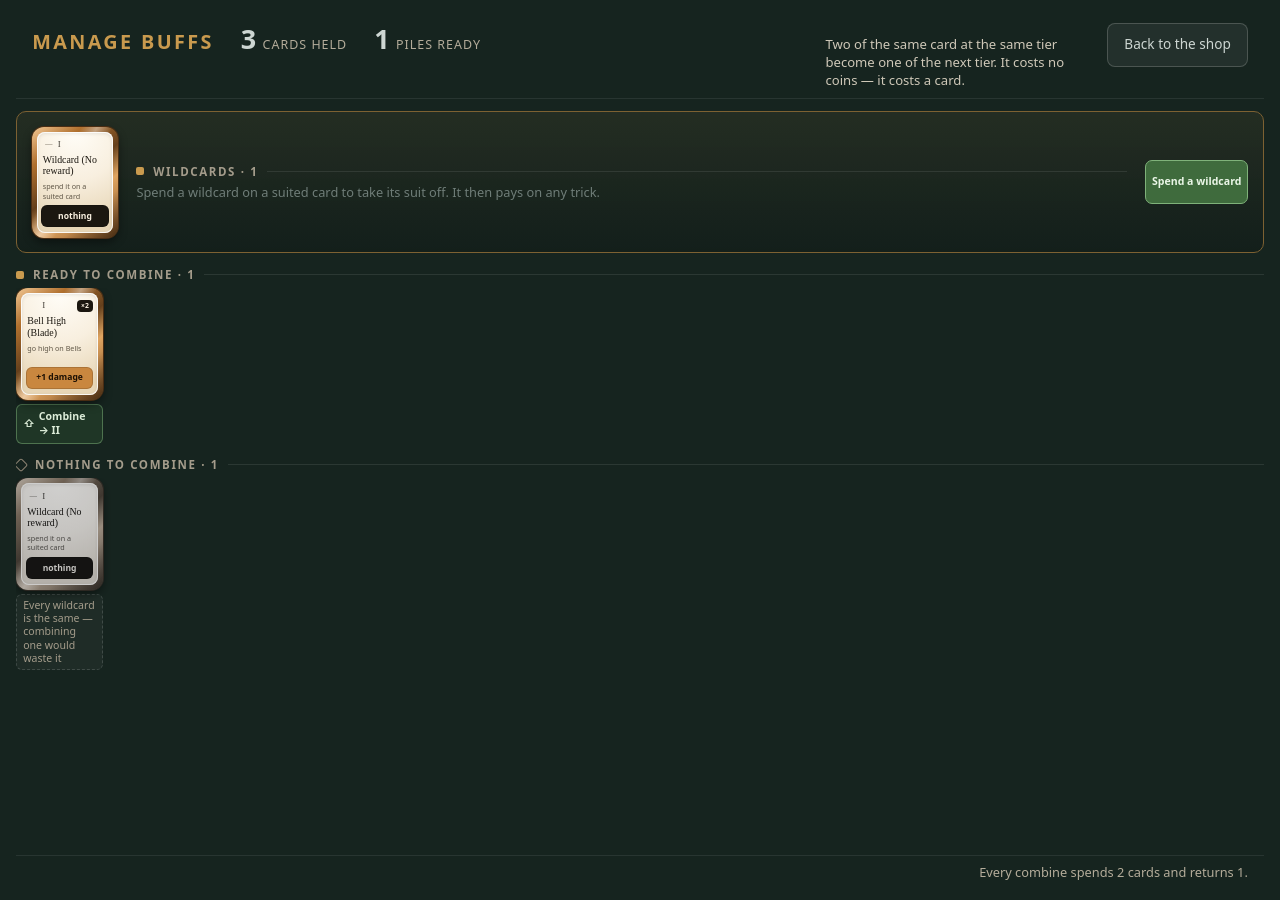
the wildcard band (DLR-162) › cancels the armed target with Escape, then leaves the mode with a second Escape
Click the button "Spend a wildcard".
click(1197, 182)  # box [1145,160,1248,204]
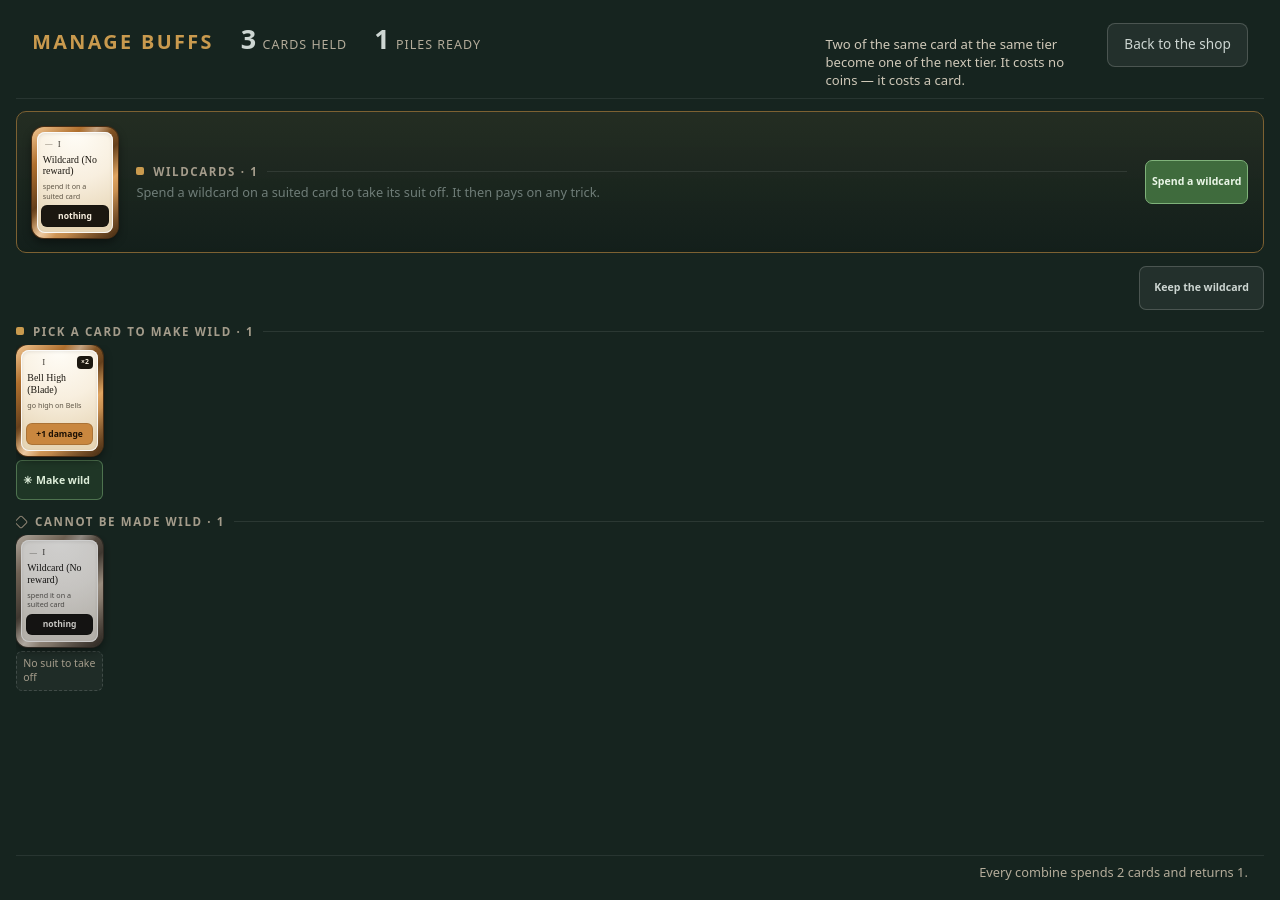
Click the button "Bell High (Blade)".
click(56, 422)  # box [16,345,96,500]
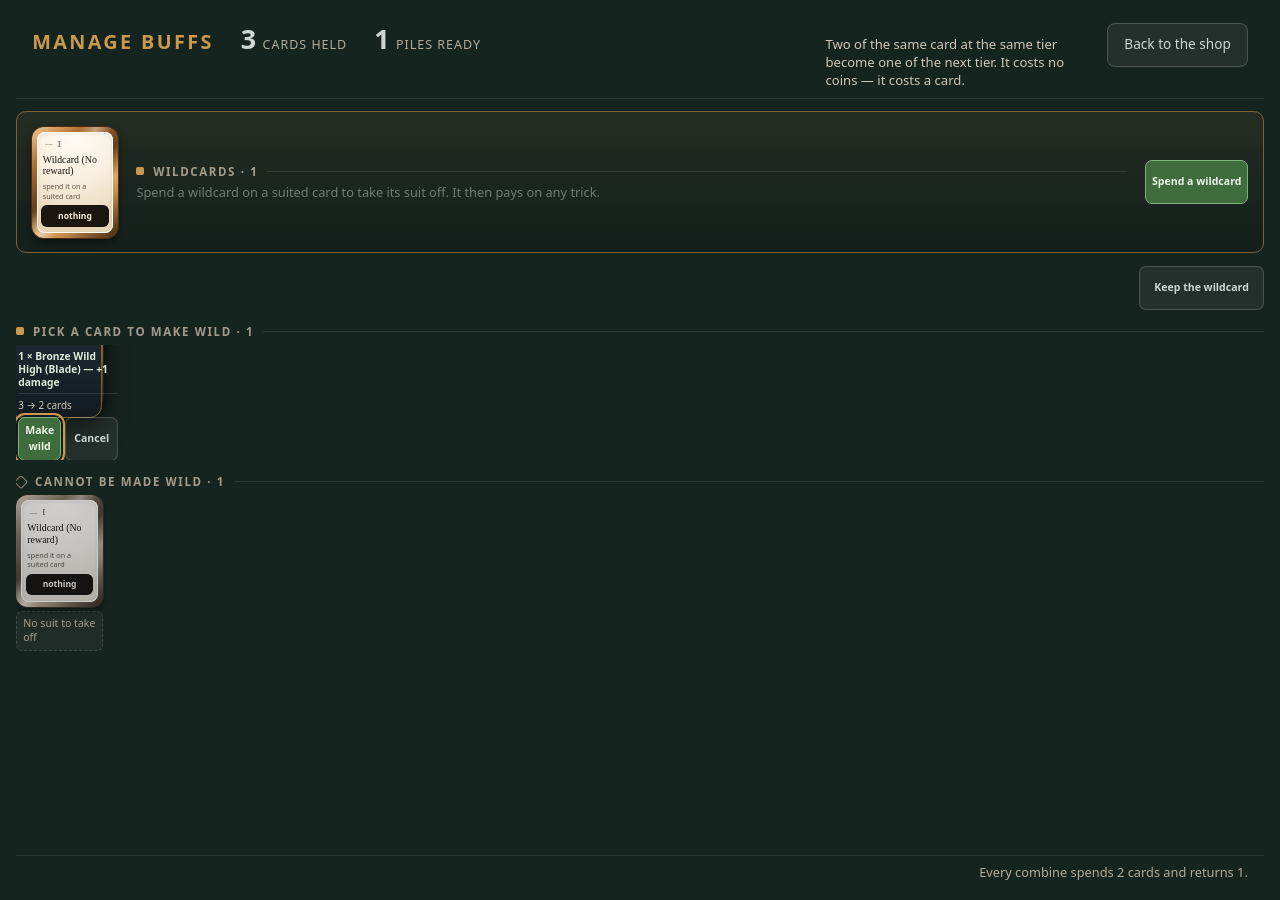
Result: the button "Make wild" is shown at [18,417,61,460]
Press Escape in the element named "Pick a card to make wild", box [10,291,103,418]
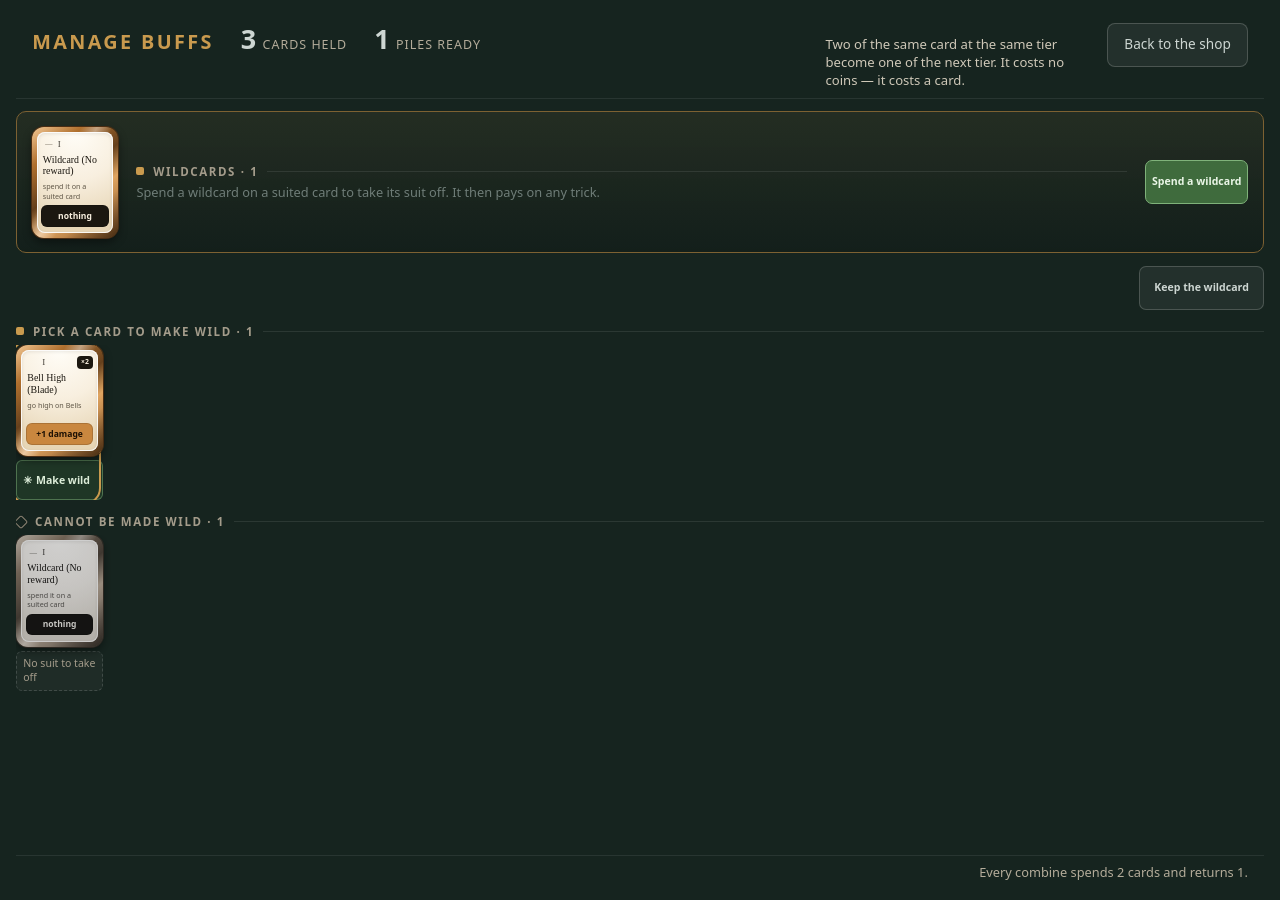
Result: the element named "Pick a card to make wild" is shown
Press Escape in the element named "Pick a card to make wild", box [16,345,96,500]
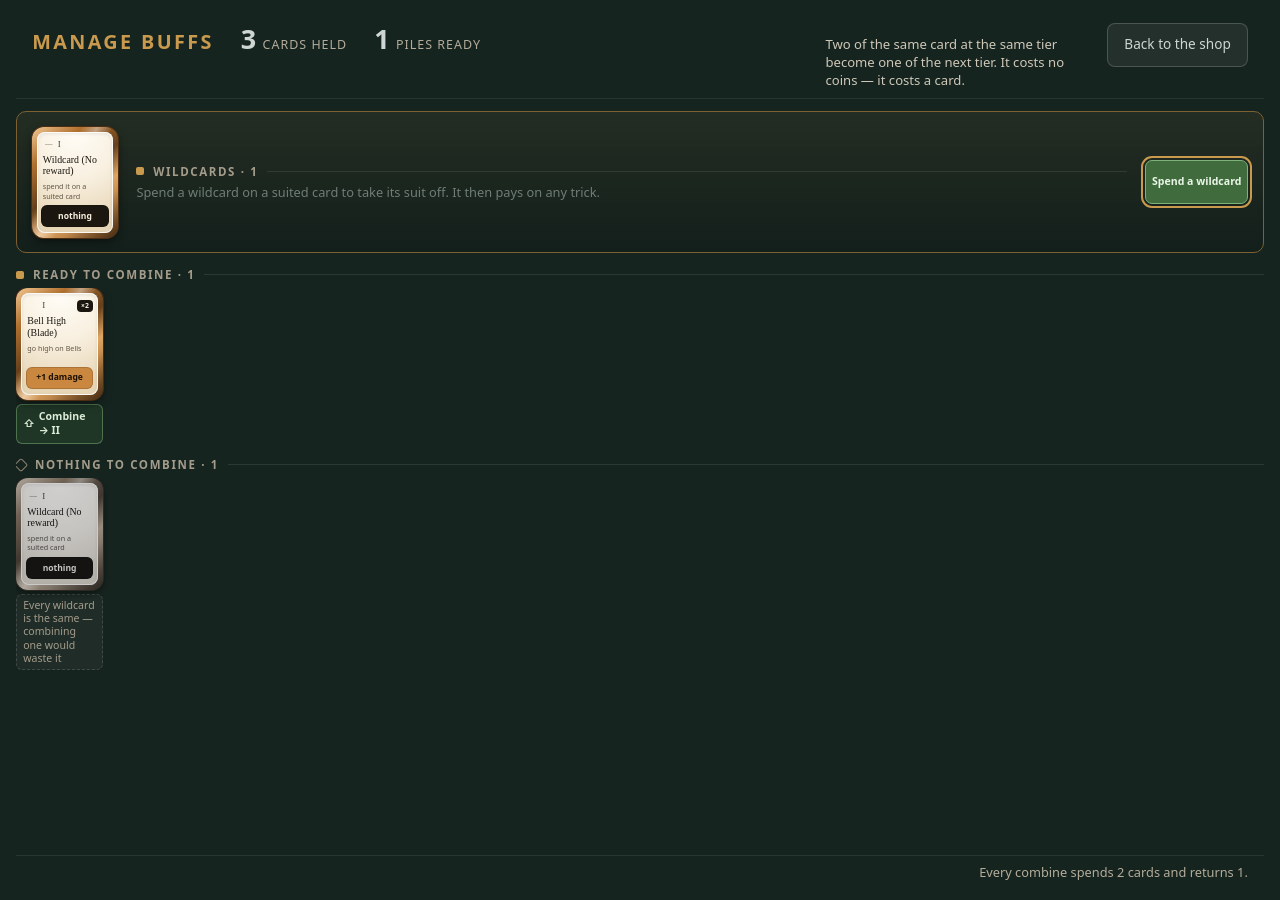
Result: the heading "Pick a card to make wild" is gone
Result: the element named "Ready to combine" is shown at [16,288,96,444]
